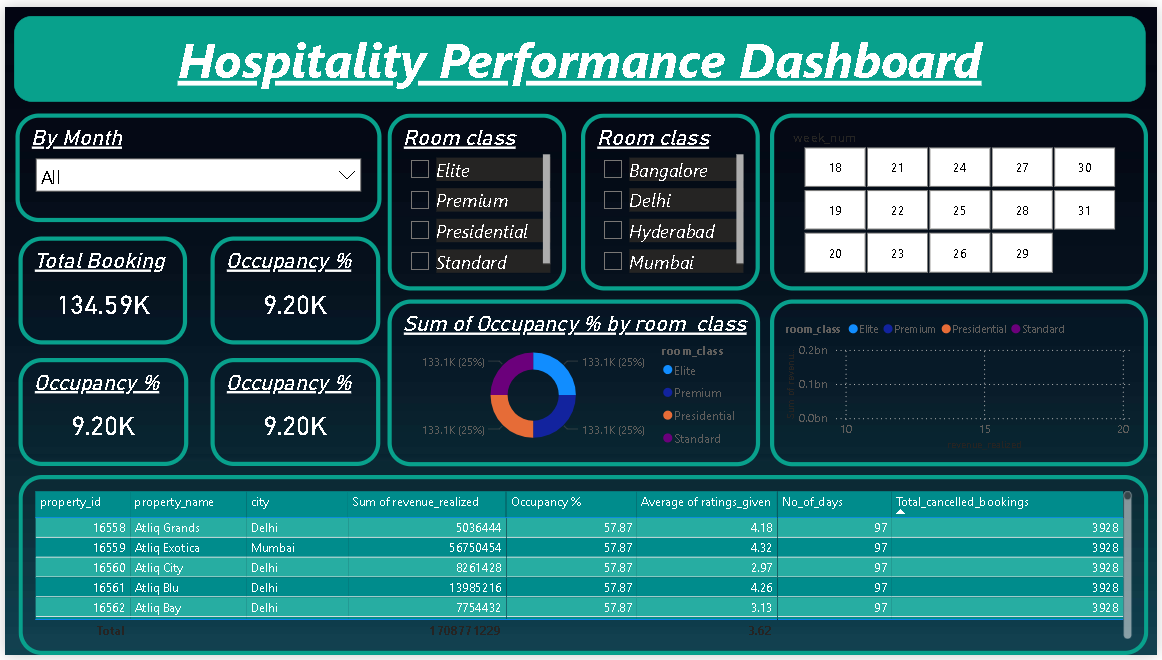

The dashboard page shown, as its layout file describes it:
{"tool":"powerbi","page":{"name":"Page 1","canvas":[1280,720],"ordinal":0},"visuals":[{"type":"textbox","box":[10,10,1257.5,95],"z":0},{"type":"slicer","title":"By Month","fields":{"Values":["Sheet1.booking_date.Variation.Date Hierarchy.Month"]},"box":[11.4,118.7,406.6,120.4],"z":1000},{"type":"slicer","title":"Room class","fields":{"Values":["02_Rooms_Project_Data_ (5).room_class"]},"box":[424.5,118.7,198.4,196.8],"z":2000},{"type":"slicer","title":"Room class","fields":{"Values":["03_hotel_Name_Data (5).city"]},"box":[639.2,118.7,198.4,196.8],"z":3000},{"type":"slicer","fields":{"Values":["Sheet1.week_num"]},"box":[850,118.3,420,196.7],"z":4000},{"type":"card","title":"Total Booking","fields":{"Values":["Max(02_Rooms_Project_Data_ (5).total_booking)"]},"box":[15,255,187.5,120],"z":5000},{"type":"card","title":"Occupancy %","fields":{"Values":["CountNonNull(04_fact_aggregated_bookings (4).Occupancy %)"]},"box":[15,390,188.8,120],"z":6000},{"type":"card","title":"Occupancy %","fields":{"Values":["CountNonNull(04_fact_aggregated_bookings (4).Occupancy %)"]},"box":[228.8,255,188.8,120],"z":7000},{"type":"card","title":"Occupancy %","fields":{"Values":["CountNonNull(04_fact_aggregated_bookings (4).Occupancy %)"]},"box":[228.8,390,188.8,120],"z":8000},{"type":"tableEx","fields":{"Values":["04_fact_aggregated_bookings (4).property_id","03_hotel_Name_Data (5).property_name","03_hotel_Name_Data (5).city","Sum(Sheet1.revenue_realized)","04_fact_aggregated_bookings (4).Occupancy %","Avg(Sheet1.ratings_given)","02_Rooms_Project_Data_ (5).No_of_days","02_Rooms_Project_Data_ (5).Total_cancelled_bookings"]},"box":[15,520,1255,200],"z":9000},{"type":"donutChart","fields":{"Y":["Sum(04_fact_aggregated_bookings (4).Occupancy %)"],"Category":["02_Rooms_Project_Data_ (5).room_class"]},"box":[425,325,413.8,185],"z":10000},{"type":"lineChart","fields":{"Y":["Sum(Sheet1.revenue_generated)"],"Series":["02_Rooms_Project_Data_ (5).room_class"],"Category":["Sheet1.revenue_realized"]},"box":[850,325,420,185],"z":11000}]}

Visuals, with their boxes in screenshot pixels (x1, y1, x2, y2), scaled from the page's 1280x720 canvas onto the 1162x660 screenshot:
textbox: (x1=9, y1=9, x2=1151, y2=96)
"By Month" slicer: (x1=10, y1=109, x2=379, y2=219)
"Room class" slicer: (x1=385, y1=109, x2=565, y2=289)
"Room class" slicer: (x1=580, y1=109, x2=760, y2=289)
slicer - Sheet1.week_num: (x1=772, y1=108, x2=1153, y2=289)
"Total Booking" card: (x1=14, y1=234, x2=184, y2=344)
"Occupancy %" card: (x1=14, y1=358, x2=185, y2=468)
"Occupancy %" card: (x1=208, y1=234, x2=379, y2=344)
"Occupancy %" card: (x1=208, y1=358, x2=379, y2=468)
tableEx - 04_fact_aggregated_bookings (4).property_id x 03_hotel_Name_Data (5).property_name: (x1=14, y1=477, x2=1153, y2=659)
donutChart - Sum(04_fact_aggregated_bookings (4).Occupancy %) x 02_Rooms_Project_Data_ (5).room_class: (x1=386, y1=298, x2=761, y2=468)
lineChart - Sum(Sheet1.revenue_generated) x 02_Rooms_Project_Data_ (5).room_class: (x1=772, y1=298, x2=1153, y2=468)
